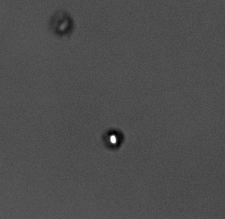Dead Cell: (50, 12, 75, 34)
Living Cell: (103, 126, 123, 149)
